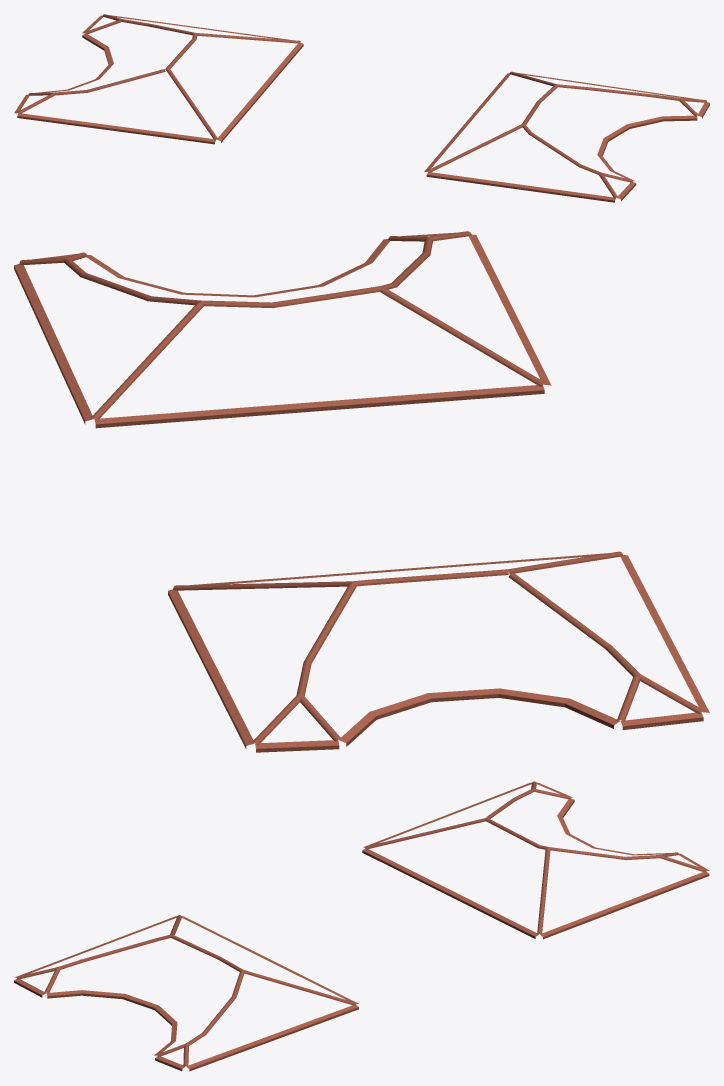
3 renders of one model, top to bottom at view 1: azimuth 30°, elevation 25°; view 2: azimuth 150°, elevation 25°; view 3: azimuth 270°, elevation 25°, orthographic. The views are drawn at different scales.
Visible parts, largest first — view 1: detail; view 2: detail; view 3: detail.
Boxes of the visible parts, x1=… form: detail: x1=14, y1=14, x2=709, y2=202; detail: x1=14, y1=231, x2=709, y2=752; detail: x1=14, y1=781, x2=709, y2=1071.
Bounding box in the file's own units: 40.72 × 2.66 × 41.92.
